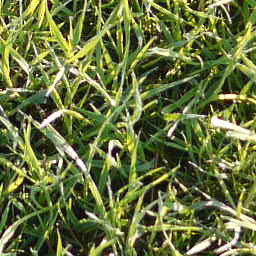weed: (1, 1, 256, 256)
